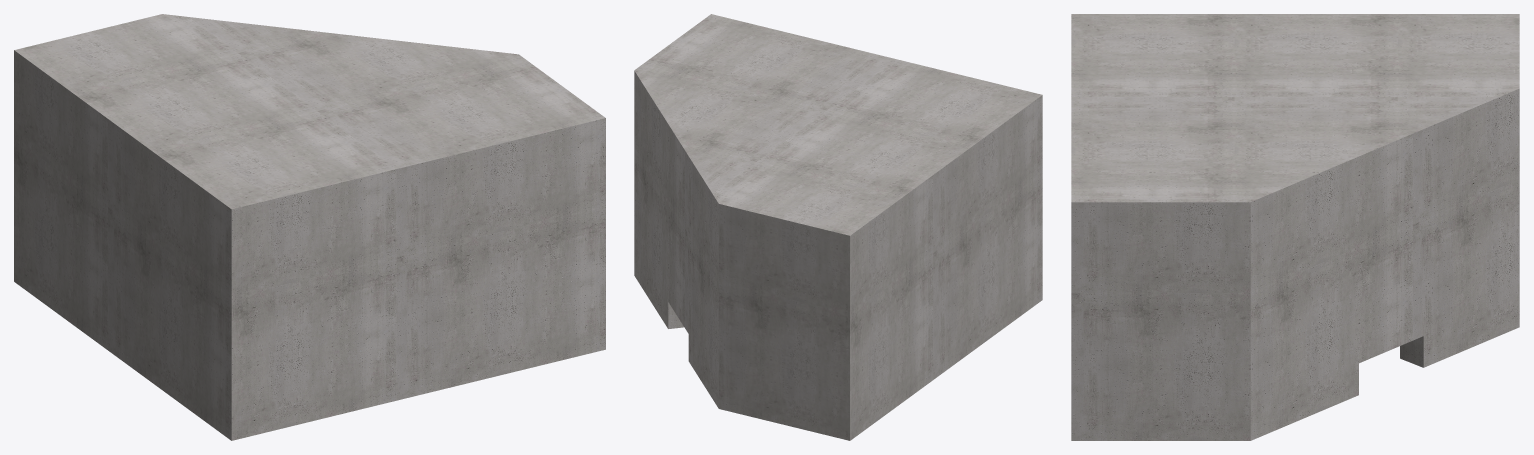
Rendered from spawn2.fbx.
3 views of the same model, side by side, from view 1: azimuth 30°, elevation 25°; view 2: azimuth 150°, elevation 25°; view 3: azimuth 270°, elevation 25° (orthographic). The views are drawn at different scales.
Parts seen in each view (by area): view 1: Model; view 2: Model; view 3: Model.
Part boxes in pixels (box(x1,y1,x2,y2)): Model: box(14, 14, 605, 440); Model: box(634, 14, 1042, 440); Model: box(1071, 14, 1519, 440).
Bounding box in the file's own units: 10.67 × 6.31 × 10.74.
